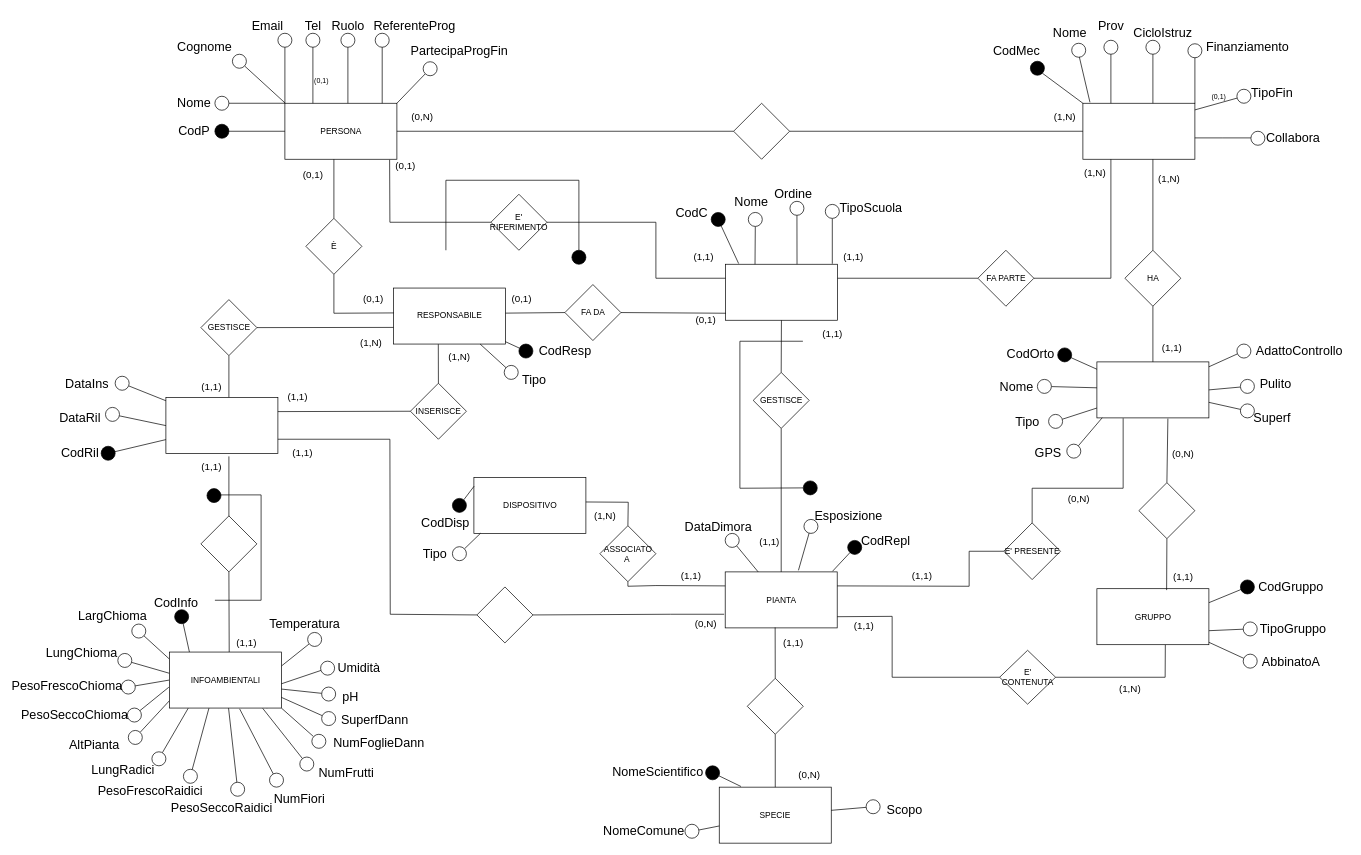
Some shapes in this 1361 by 855 pixel diagram are drawn without their labels. Each missing label, with the centre of its shape:
"APPARTIENE" belongs at pixel 775 706.
"CLASSE" belongs at pixel 781 292.
"E' LOCALIZZATO" belongs at pixel 1166 510.
"E' REFERENTE" belongs at pixel 761 131.
"INERENTE" belongs at pixel 228 543.
"ORTO" belongs at pixel 1152 389.
"RELATIVA" belongs at pixel 504 614.
"RILEVAZIONE" belongs at pixel 221 425.
"SCUOLA" belongs at pixel 1138 131.
